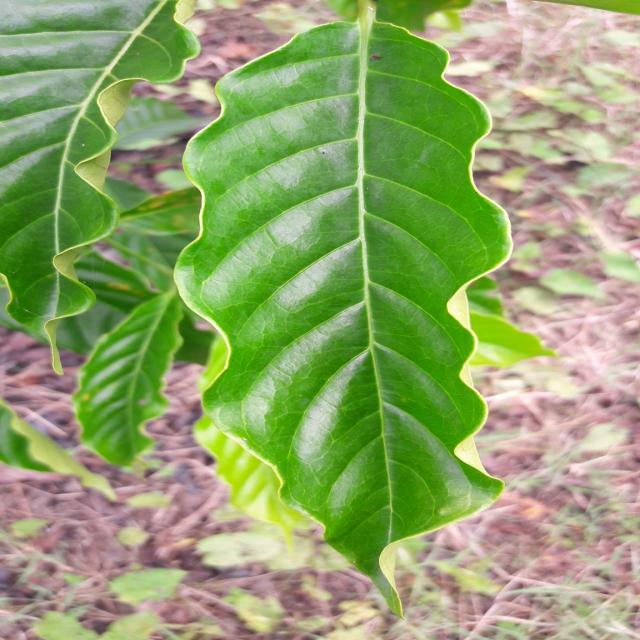Sanas: (173, 18, 542, 613)
